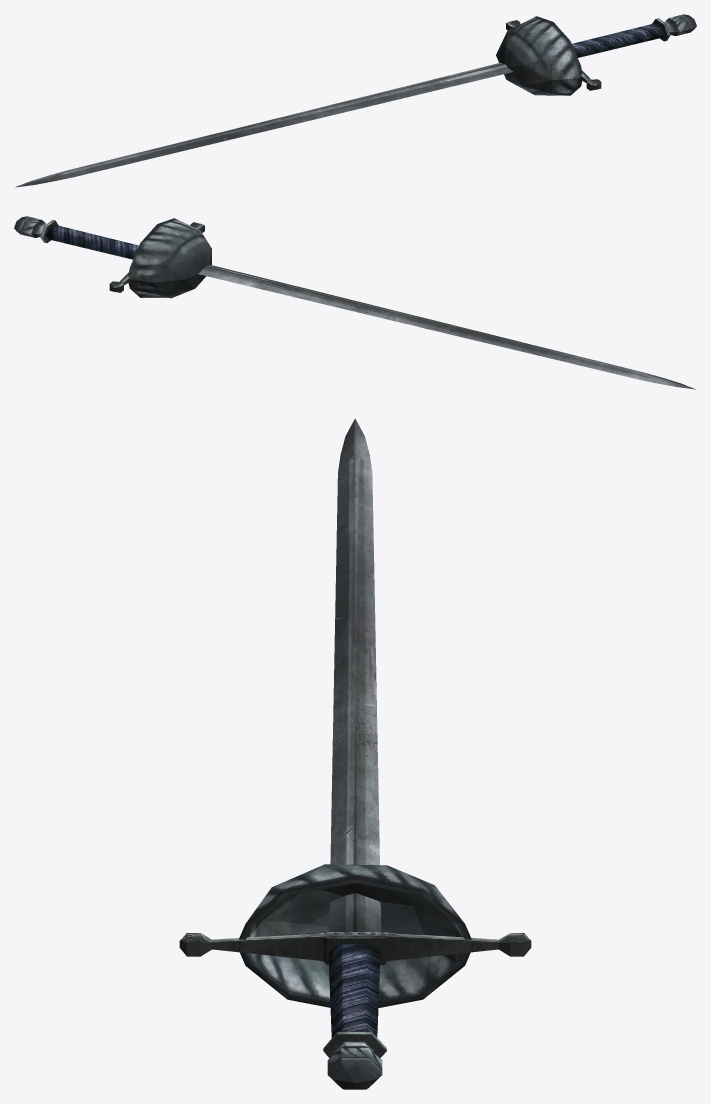
The model's file is ITMW_1H_DEXSWORD_05.glb.
3 views of the same model, one above another, from view 1: azimuth 30°, elevation 25°; view 2: azimuth 150°, elevation 25°; view 3: azimuth 270°, elevation 25° (orthographic). The views are drawn at different scales.
Parts seen in each view (by area): view 1: ITMW_1H_DEXSWORD_05; view 2: ITMW_1H_DEXSWORD_05; view 3: ITMW_1H_DEXSWORD_05.
Part boxes in pixels (<box>): ITMW_1H_DEXSWORD_05: <box>14,14,696,187</box>; ITMW_1H_DEXSWORD_05: <box>14,216,695,389</box>; ITMW_1H_DEXSWORD_05: <box>179,418,531,1089</box>.
Size of the model in its own units: 1.13 by 0.1077 by 0.2528.
Materials: 2 (2 with a texture image).
